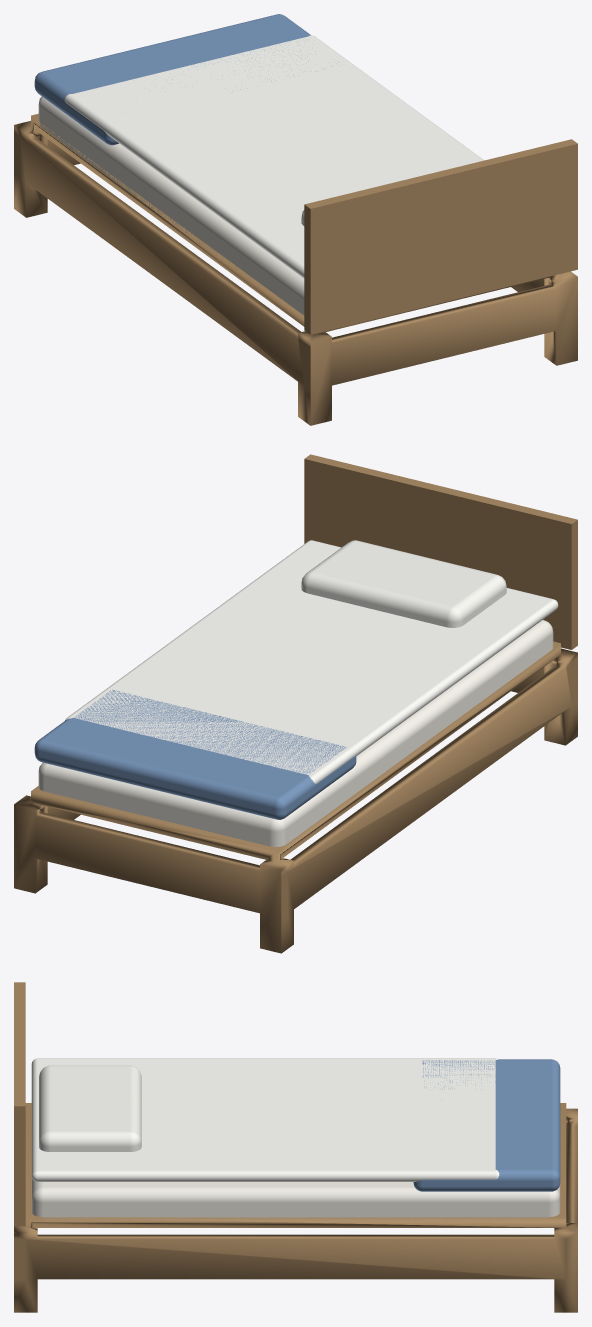
Rendered from bed_single.glb.
The picture shows the model from 3 angles, top to bottom: view 1: azimuth 30°, elevation 25°; view 2: azimuth 150°, elevation 25°; view 3: azimuth 270°, elevation 25°; orthographic projection. The views are drawn at different scales.
Parts seen in each view (by area): view 1: sheet, merged_wood_oak, headboard, mattress, blanket; view 2: sheet, merged_wood_oak, headboard, blanket, mattress, pillow; view 3: sheet, merged_wood_oak, mattress, blanket, pillow, headboard.
Part boxes in pixels (x1=…): sheet: x1=64, y1=35, x2=483, y2=278; merged_wood_oak: x1=14, y1=113, x2=577, y2=425; headboard: x1=304, y1=139, x2=577, y2=334; mattress: x1=38, y1=96, x2=304, y2=315; blanket: x1=34, y1=14, x2=338, y2=145; sheet: x1=65, y1=540, x2=558, y2=783; merged_wood_oak: x1=14, y1=641, x2=577, y2=953; headboard: x1=304, y1=454, x2=577, y2=649; blanket: x1=34, y1=689, x2=356, y2=819; mattress: x1=38, y1=620, x2=553, y2=846; pillow: x1=301, y1=540, x2=506, y2=627; sheet: x1=31, y1=1058, x2=499, y2=1181; merged_wood_oak: x1=14, y1=1103, x2=577, y2=1312; mattress: x1=31, y1=1177, x2=560, y2=1221; blanket: x1=413, y1=1059, x2=560, y2=1191; pillow: x1=39, y1=1065, x2=141, y2=1151; headboard: x1=14, y1=982, x2=25, y2=1226.
Bounding box in the file's own units: 1 × 0.775 × 1.92.
